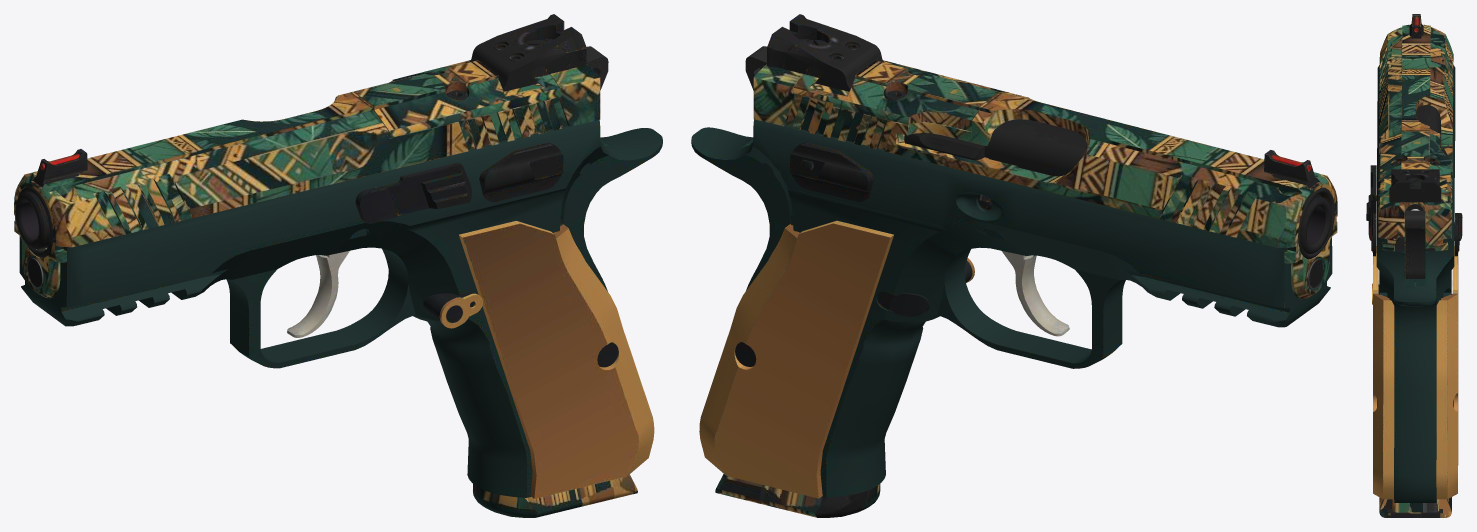
File: weapon_czs-c.glb
3 renders of one model, left to right at view 1: azimuth 30°, elevation 25°; view 2: azimuth 150°, elevation 25°; view 3: azimuth 270°, elevation 25°, orthographic. The views are drawn at different scales.
Parts seen in each view (by area): view 1: main_frame_czs-c, slide_czs-c, rear_sight_czs-c, magazine_czs-c, trigger_czs-c, barrel_czs-c, front_sight_czs-c; view 2: main_frame_czs-c, slide_czs-c, barrel_czs-c, rear_sight_czs-c, magazine_czs-c, trigger_czs-c, front_sight_czs-c; view 3: main_frame_czs-c, slide_czs-c, rear_sight_czs-c, hammer_czs-c, magazine_czs-c, barrel_czs-c, front_sight_czs-c.
Part boxes in pixels (left/top/right/bottom): main_frame_czs-c: left=14, top=120, right=662, bottom=498; slide_czs-c: left=14, top=60, right=600, bottom=297; rear_sight_czs-c: left=469, top=14, right=586, bottom=91; magazine_czs-c: left=473, top=474, right=637, bottom=517; trigger_czs-c: left=287, top=251, right=349, bottom=337; barrel_czs-c: left=15, top=192, right=49, bottom=249; front_sight_czs-c: left=33, top=149, right=87, bottom=186; main_frame_czs-c: left=691, top=119, right=1336, bottom=498; slide_czs-c: left=753, top=60, right=1337, bottom=298; barrel_czs-c: left=984, top=119, right=1331, bottom=253; rear_sight_czs-c: left=767, top=14, right=884, bottom=91; magazine_czs-c: left=715, top=474, right=880, bottom=517; trigger_czs-c: left=1002, top=251, right=1069, bottom=336; front_sight_czs-c: left=1264, top=150, right=1318, bottom=188; main_frame_czs-c: left=1366, top=65, right=1462, bottom=502; slide_czs-c: left=1378, top=24, right=1453, bottom=251; rear_sight_czs-c: left=1389, top=169, right=1441, bottom=202; hammer_czs-c: left=1405, top=210, right=1425, bottom=278; magazine_czs-c: left=1379, top=497, right=1451, bottom=517; barrel_czs-c: left=1416, top=105, right=1440, bottom=147; front_sight_czs-c: left=1409, top=14, right=1423, bottom=38.
Size of the model in its own units: 25.83 by 18.29 by 4.97.
1 material, 1 textured.
